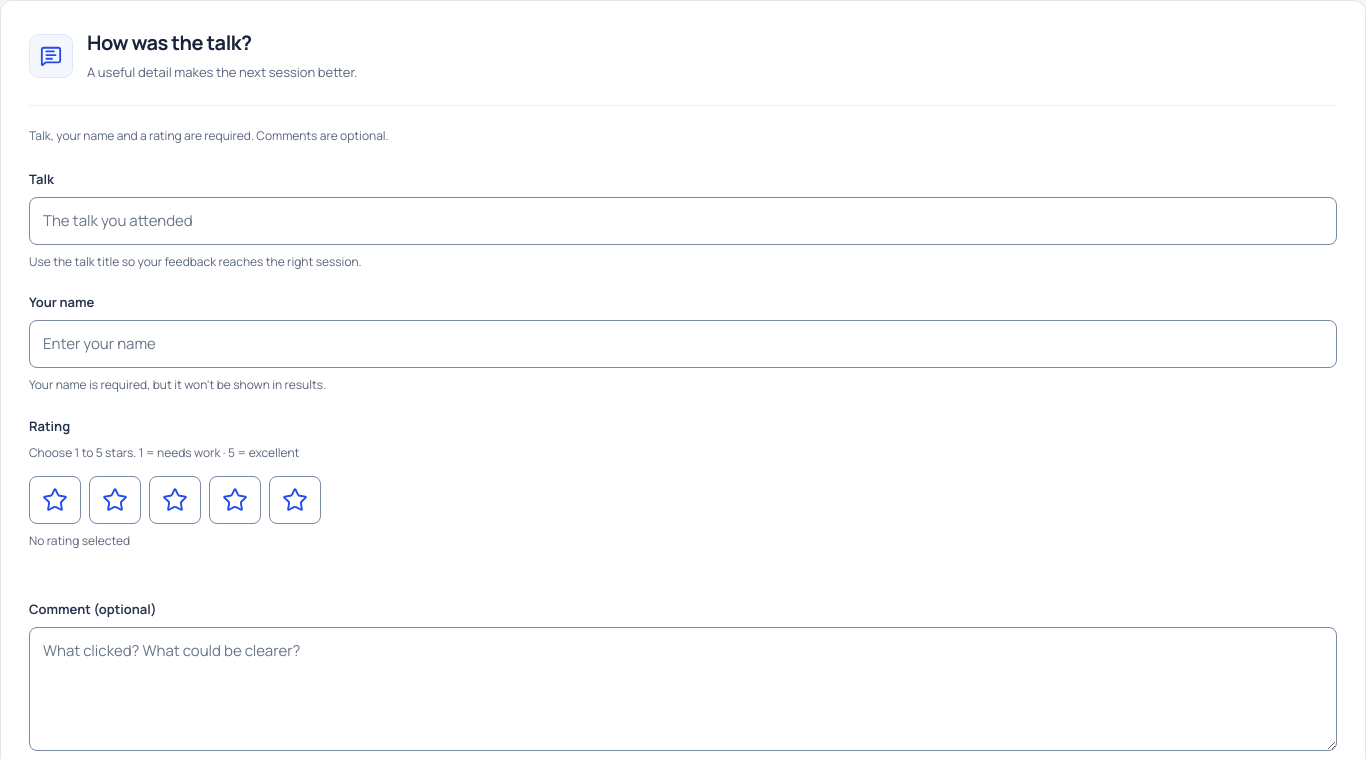
labels optional comments and exposes five required native star radios
Check: the text "Talk, your name and a rating are required. Comments are optional." is shown, box x1=29 y1=105 x2=1337 y2=146
Check: the radio button named "1 star" is not checked, box x1=29 y1=476 x2=81 y2=524
Click the radio button named "3 stars".
click(175, 500)  # box x1=149 y1=476 x2=201 y2=524
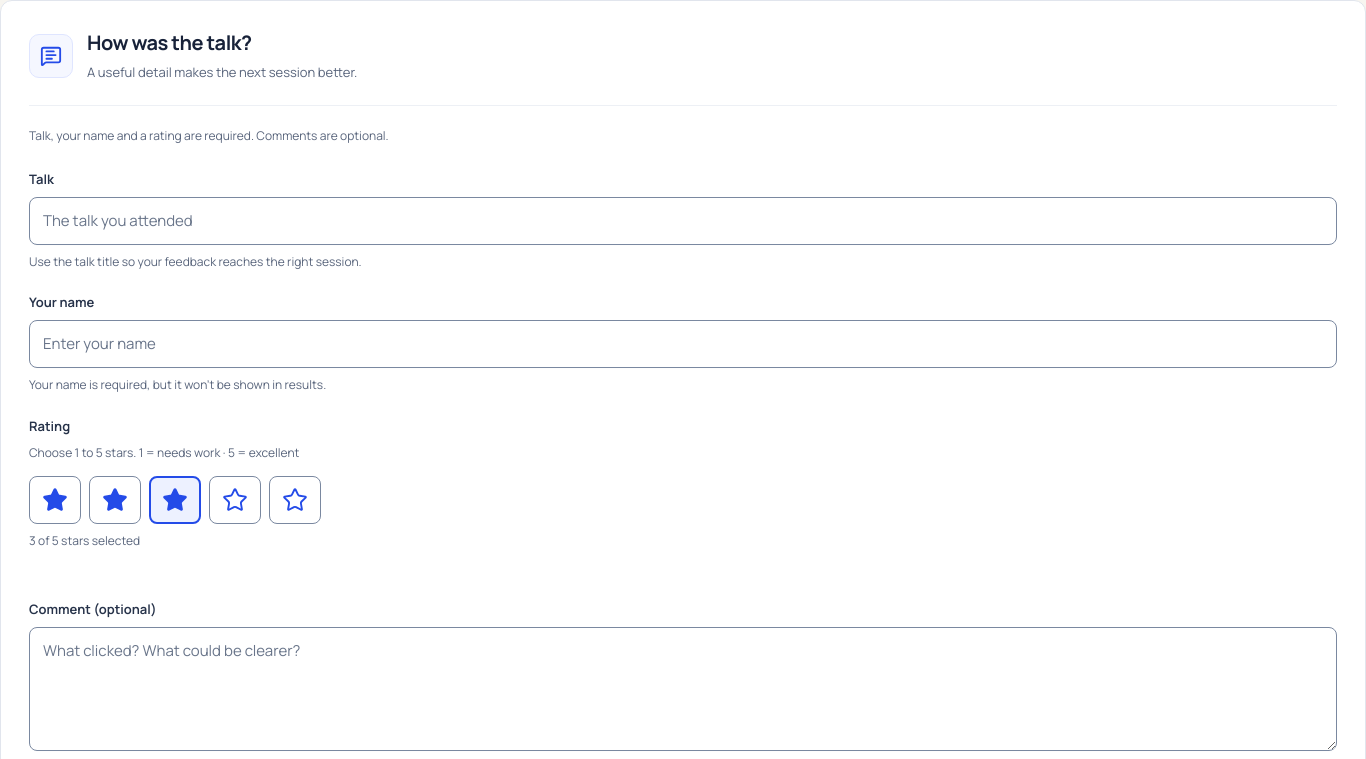
Check: the text "3 of 5 stars selected" is shown, box x1=29 y1=532 x2=140 y2=549
